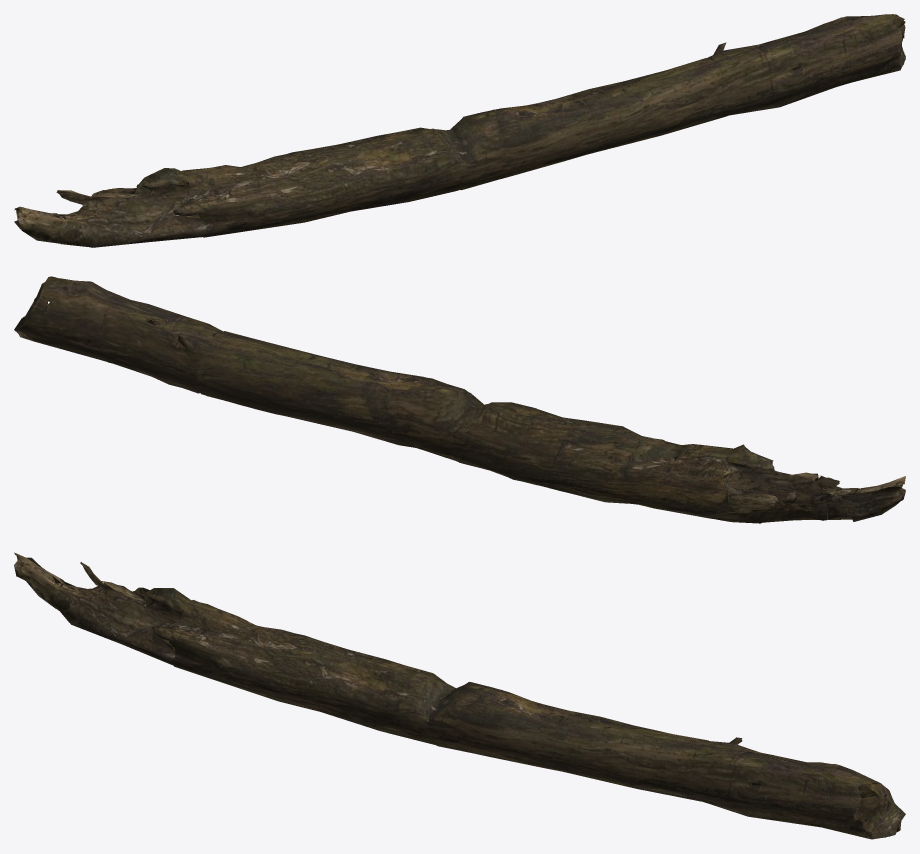
Rendered from dead_tree_trunk.glb.
3 renders of one model, top to bottom at view 1: azimuth 30°, elevation 25°; view 2: azimuth 150°, elevation 25°; view 3: azimuth 330°, elevation 25°, orthographic.
Visible parts, largest first — view 1: dead_tree_trunk_v0_far, dead_tree_trunk_v0_near; view 2: dead_tree_trunk_v0_near, dead_tree_trunk_v0_far; view 3: dead_tree_trunk_v0_far, dead_tree_trunk_v0_near.
Boxes of the visible parts, left/top/right/bottom form: dead_tree_trunk_v0_far: left=14, top=15, right=905, bottom=246; dead_tree_trunk_v0_near: left=15, top=14, right=905, bottom=247; dead_tree_trunk_v0_near: left=14, top=277, right=905, bottom=521; dead_tree_trunk_v0_far: left=14, top=276, right=905, bottom=523; dead_tree_trunk_v0_far: left=14, top=556, right=905, bottom=839; dead_tree_trunk_v0_near: left=14, top=552, right=905, bottom=838.
Bounding box in the file's own units: 3.05 × 0.2937 × 0.2732.
1 material, 1 textured.
